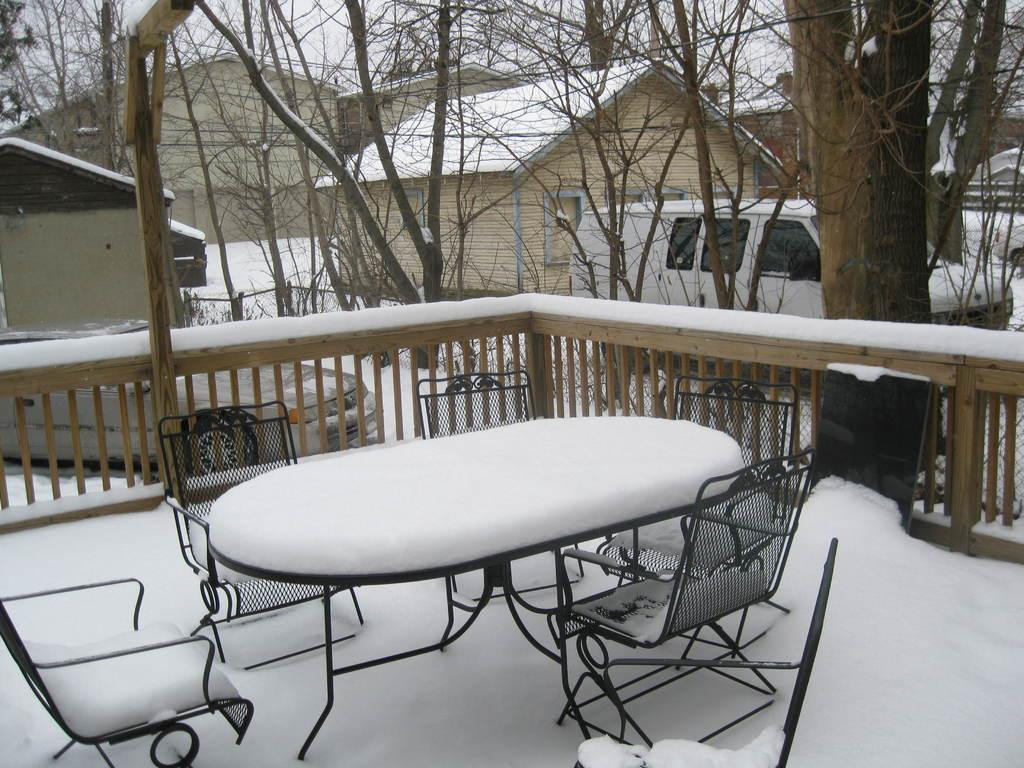Chair: (551, 441, 820, 761), (570, 529, 840, 767), (589, 369, 806, 662), (157, 399, 372, 676), (15, 508, 241, 761), (417, 368, 593, 618)
